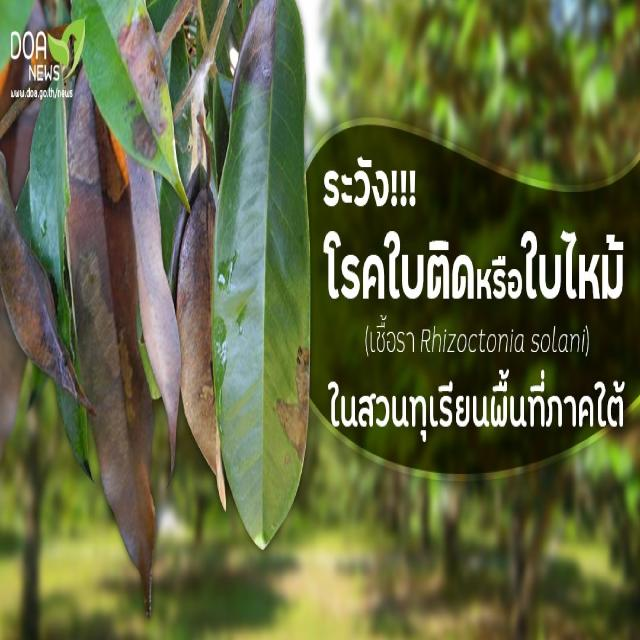Leaf_Blight: (50, 58, 174, 626), (0, 58, 85, 436), (162, 131, 238, 534), (218, 3, 308, 275), (111, 29, 186, 228)
